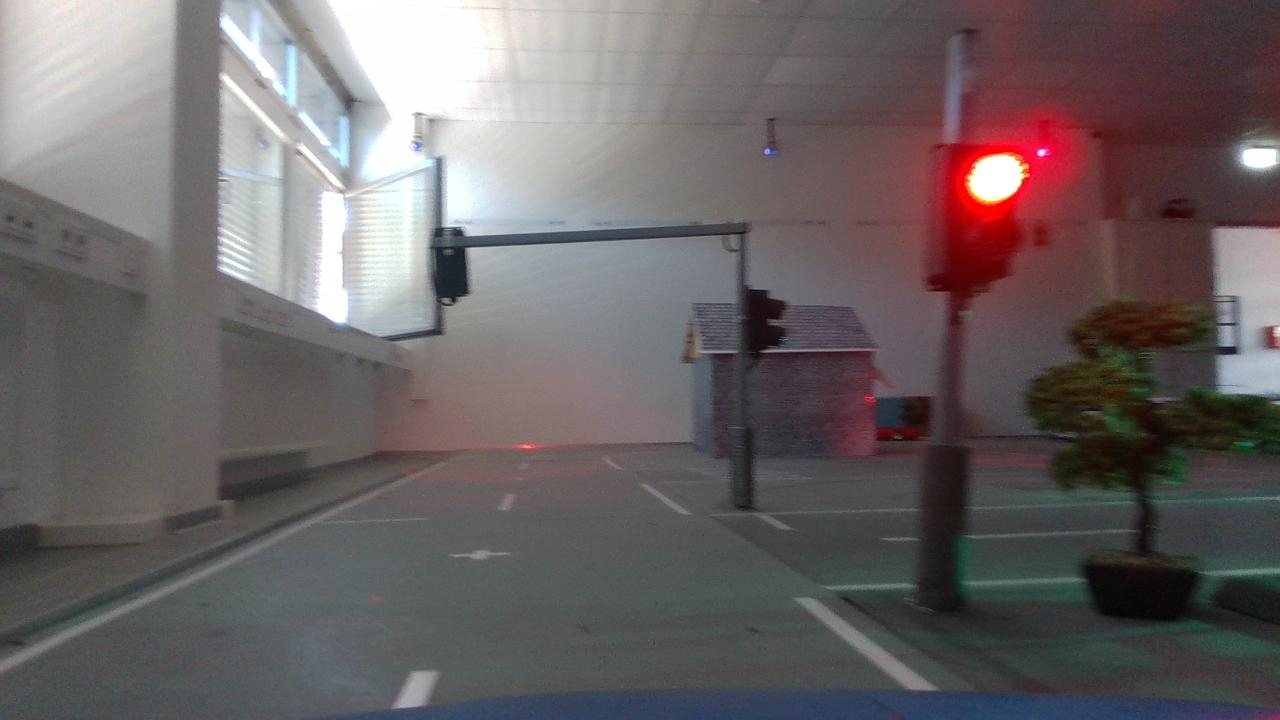traffic_light_red: (903, 127, 1040, 303)
